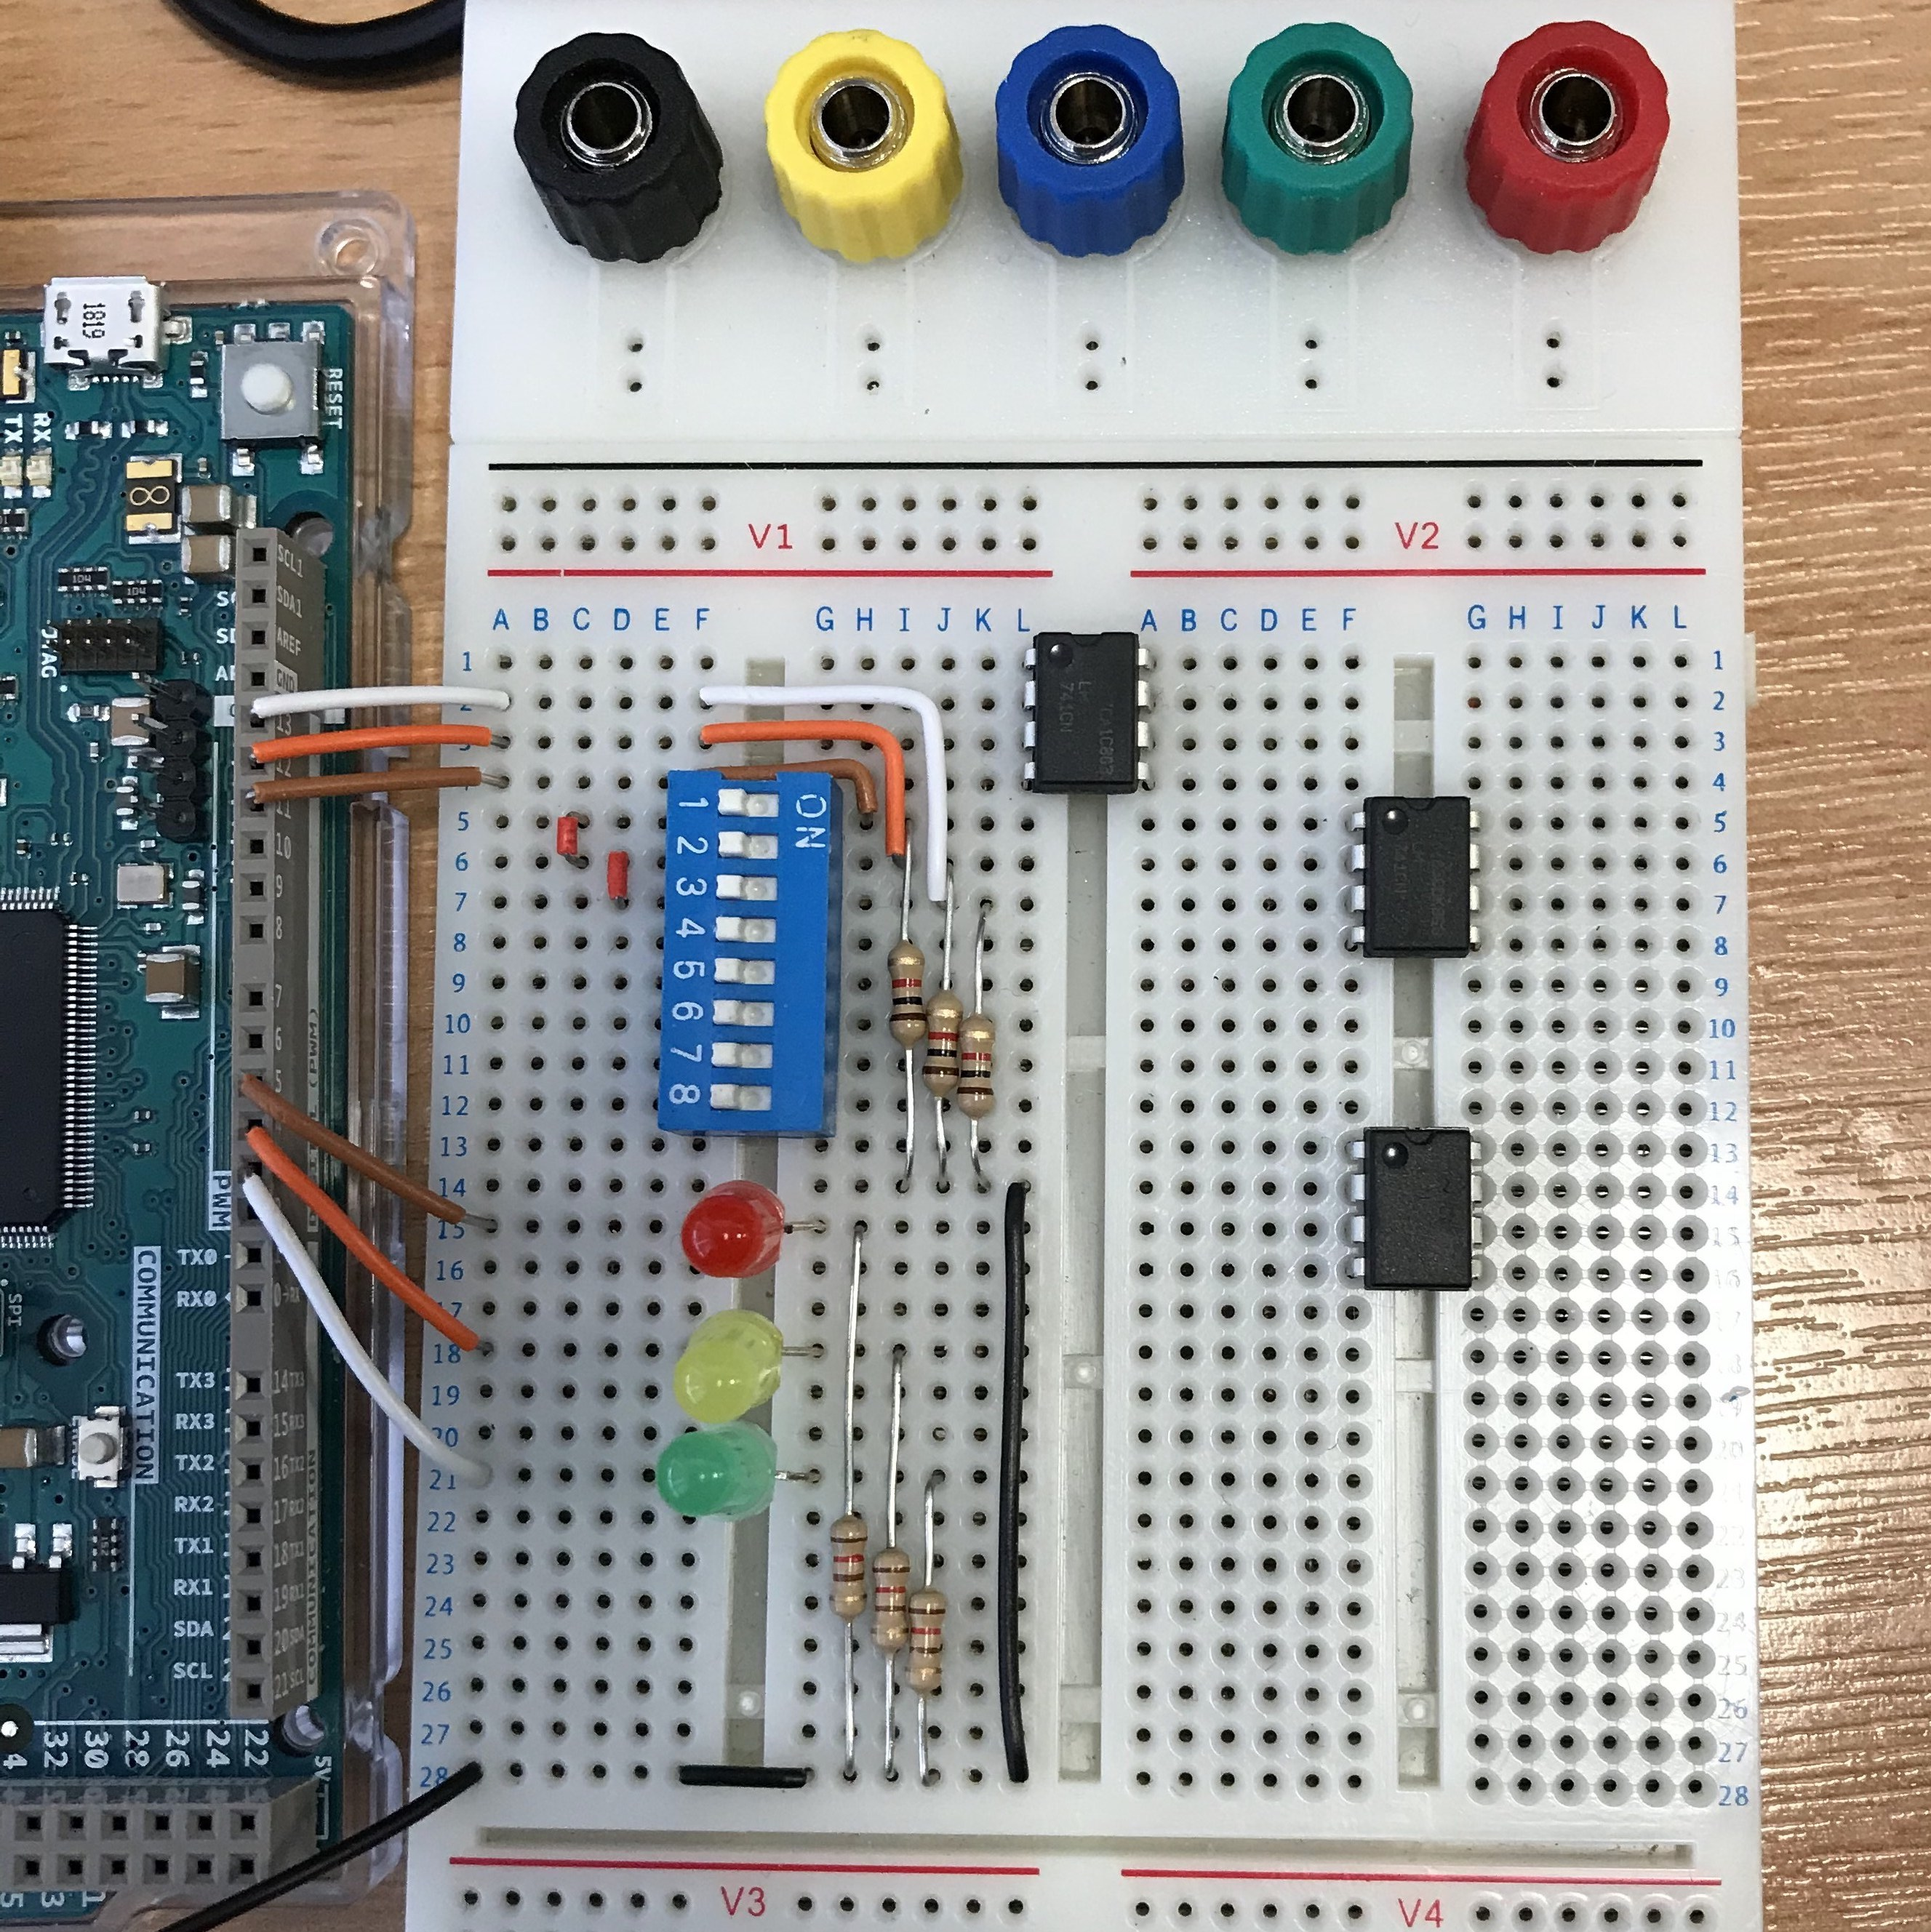LED: (668, 1297, 796, 1434), (679, 1172, 799, 1292), (654, 1418, 782, 1529)
Resistor: (902, 1570, 953, 1706), (866, 1541, 918, 1665), (822, 1504, 870, 1635), (951, 1008, 1003, 1126), (881, 930, 930, 1050), (918, 985, 967, 1101)
